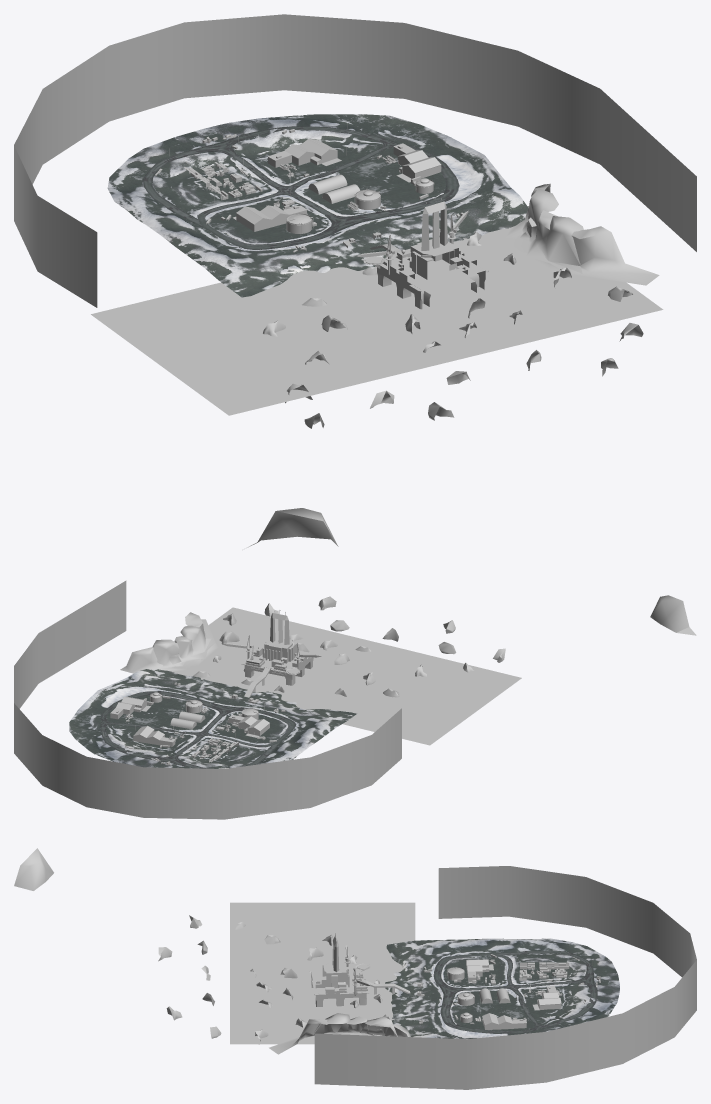
The model's file is Map10_Antarctica.fbx.
The picture shows the model from 3 angles, top to bottom: view 1: azimuth 30°, elevation 25°; view 2: azimuth 150°, elevation 25°; view 3: azimuth 270°, elevation 25°; orthographic projection. The views are drawn at different scales.
Parts seen in each view (by area): view 1: Area1, Mountaint2, Terrainn, Road, Tranparent, Area5, Area8, Area9, Area3; view 2: Area1, Mountaint2, Terrainn, Road, Tranparent, Area8, Area5, Area9, Area3; view 3: Mountaint2, Area1, Terrainn, Road, Area9, Tranparent, Area8, Area5.
Boxes of the visible parts, bbox=[...] form: Area1: bbox=[91, 183, 663, 547]; Mountaint2: bbox=[14, 14, 696, 307]; Terrainn: bbox=[107, 114, 528, 297]; Road: bbox=[142, 126, 459, 249]; Tranparent: bbox=[286, 179, 457, 263]; Area5: bbox=[267, 138, 346, 167]; Area8: bbox=[206, 205, 309, 231]; Area9: bbox=[393, 143, 441, 182]; Area3: bbox=[308, 174, 363, 203]; Area1: bbox=[120, 595, 696, 745]; Mountaint2: bbox=[14, 580, 401, 819]; Terrainn: bbox=[69, 669, 356, 768]; Road: bbox=[100, 691, 296, 768]; Tranparent: bbox=[150, 610, 289, 719]; Area8: bbox=[227, 714, 276, 742]; Area5: bbox=[133, 725, 175, 747]; Area9: bbox=[110, 696, 150, 719]; Area3: bbox=[170, 708, 205, 729]; Mountaint2: bbox=[314, 866, 696, 1089]; Area1: bbox=[14, 848, 415, 1054]; Terrainn: bbox=[385, 938, 619, 1039]; Road: bbox=[433, 950, 597, 1033]; Area9: bbox=[482, 1013, 526, 1029]; Tranparent: bbox=[331, 933, 474, 1018]; Area8: bbox=[466, 954, 496, 983]; Area5: bbox=[533, 986, 562, 1010].
Bounding box in the file's own units: 85074 × 12468 × 111556.
